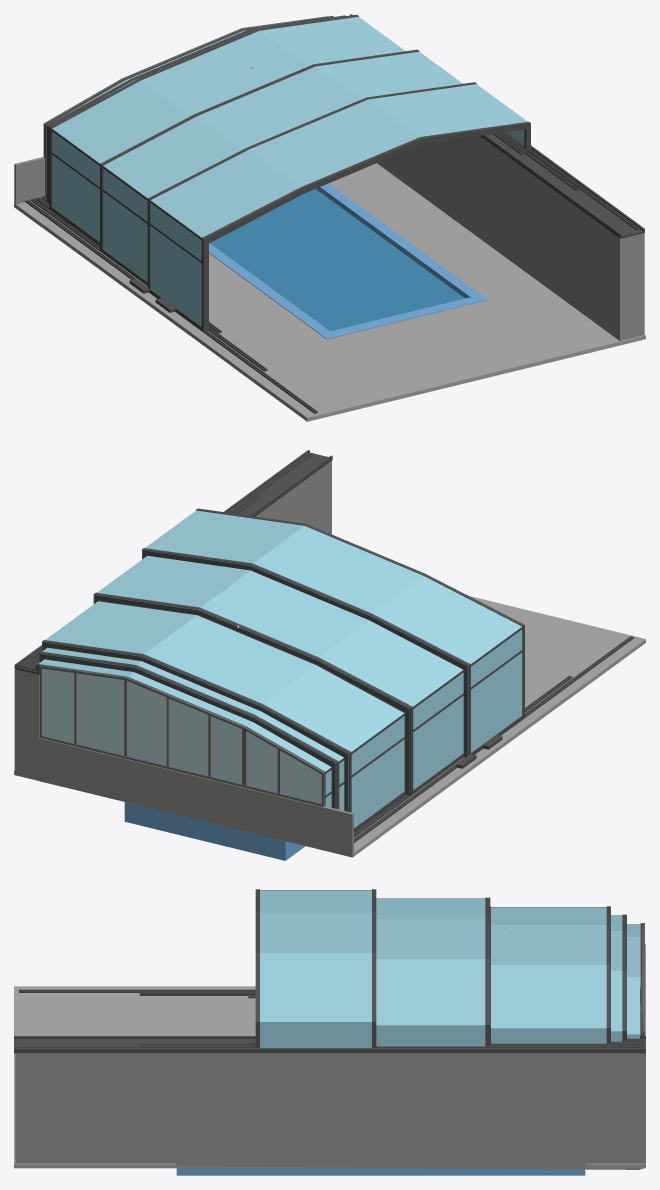
File: abris.glb
The picture shows the model from 3 angles, top to bottom: view 1: azimuth 30°, elevation 25°; view 2: azimuth 150°, elevation 25°; view 3: azimuth 270°, elevation 25°; orthographic projection. The views are drawn at different scales.
Visible parts, largest first — view 1: entity_1, Box283, Box153, Box004, Box076, Box075, Box285, Box284, Box001, Box053, Box003, Box079 (+3 smaller); view 2: Box004, Box076, Box075, Box153, entity_1, Box283, Line010, Box053, Box003, Box079, Box103, Box284 (+12 smaller); view 3: Box153, Box004, Box075, Box076, entity_1, Box283, Box284, Box125, Box150, Box053, Box001, Box003 (+2 smaller).
Part boxes in pixels (left/top/right/bottom): entity_1: left=25, top=14, right=644, bottom=413; Box283: left=232, top=286, right=645, bottom=421; Box153: left=14, top=136, right=644, bottom=340; Box004: left=150, top=84, right=527, bottom=326; Box076: left=52, top=16, right=405, bottom=241; Box075: left=103, top=51, right=462, bottom=281; Box285: left=329, top=163, right=544, bottom=299; Box284: left=42, top=220, right=326, bottom=365; Box001: left=149, top=121, right=530, bottom=331; Box053: left=100, top=49, right=419, bottom=251; Box003: left=147, top=82, right=476, bottom=289; Box079: left=49, top=14, right=358, bottom=206; Box004: left=142, top=510, right=522, bottom=755; Box076: left=42, top=601, right=404, bottom=827; Box075: left=94, top=555, right=463, bottom=794; Box153: left=14, top=461, right=353, bottom=856; entity_1: left=14, top=450, right=633, bottom=860; Box283: left=469, top=596, right=645, bottom=697; Line010: left=76, top=673, right=124, bottom=755; Box053: left=93, top=592, right=413, bottom=795; Box003: left=142, top=548, right=470, bottom=757; Box079: left=42, top=640, right=351, bottom=812; Box103: left=39, top=651, right=339, bottom=809; Box284: left=366, top=683, right=570, bottom=836; Box153: left=15, top=944, right=645, bottom=1169; Box004: left=260, top=890, right=371, bottom=1047; Box075: left=376, top=898, right=485, bottom=1046; Box076: left=491, top=907, right=606, bottom=1043; entity_1: left=14, top=989, right=645, bottom=1175; Box283: left=14, top=986, right=176, bottom=1168; Box284: left=176, top=986, right=255, bottom=1035; Box125: left=611, top=915, right=622, bottom=1041; Box150: left=627, top=924, right=639, bottom=1038; Box053: left=485, top=897, right=490, bottom=1046; Box001: left=255, top=889, right=259, bottom=1047; Box003: left=372, top=889, right=376, bottom=1047.
Bounding box in the file's own units: 439 × 239 × 659.
